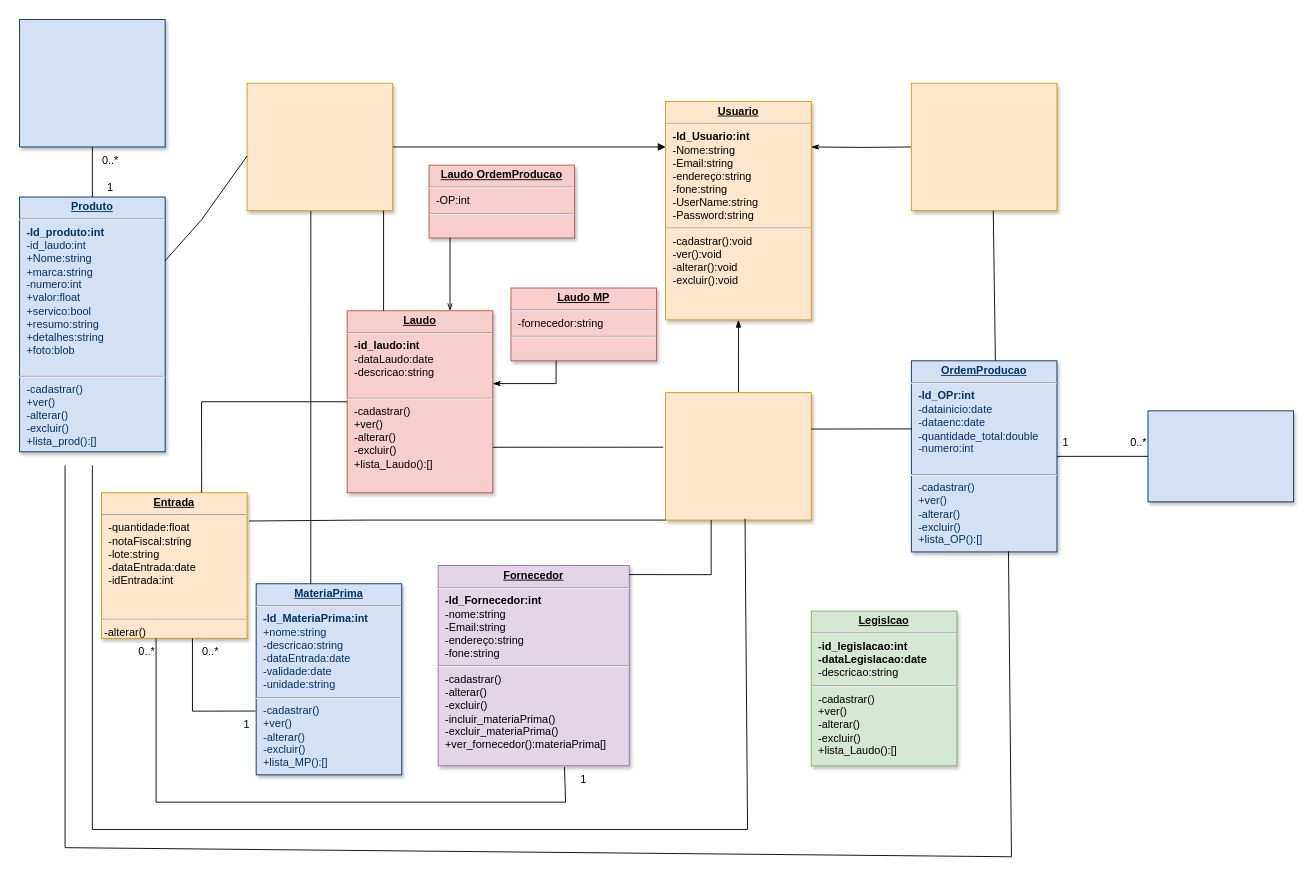
Some shapes in this 1315 by 874 pixel diagram are drawn without their labels. Here are the shapes that lost their labels. From the top down, the centre of each, then its label:
At pixel 93 84: "Lista -lista:[] -cadastrar() +ver() -alterar() -excluir() +lista_prod():[]".
At pixel 320 148: "Laboratório".
At pixel 984 148: "Vendedor".
At pixel 739 457: "Gerente".
At pixel 1221 457: "Itens -materiaprima:string -quantidade:double -Proporcionar()".
